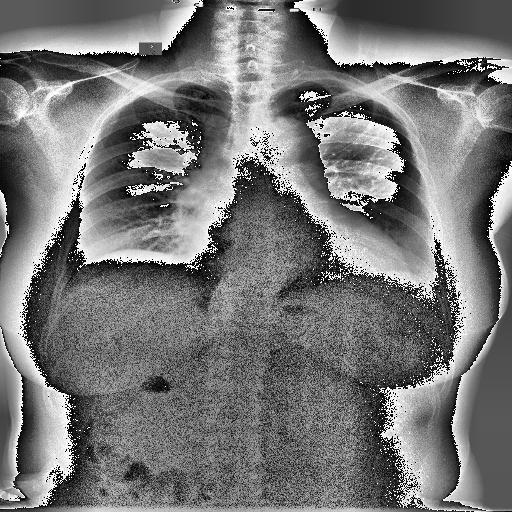0- Aortic enlargement: (262, 116, 325, 183), (250, 115, 322, 166), (264, 118, 326, 172)
11- Pleural thickening: (273, 76, 343, 90), (146, 79, 205, 89)
3- Cardiomegaly: (191, 218, 409, 280), (184, 225, 408, 285), (186, 230, 412, 284)
